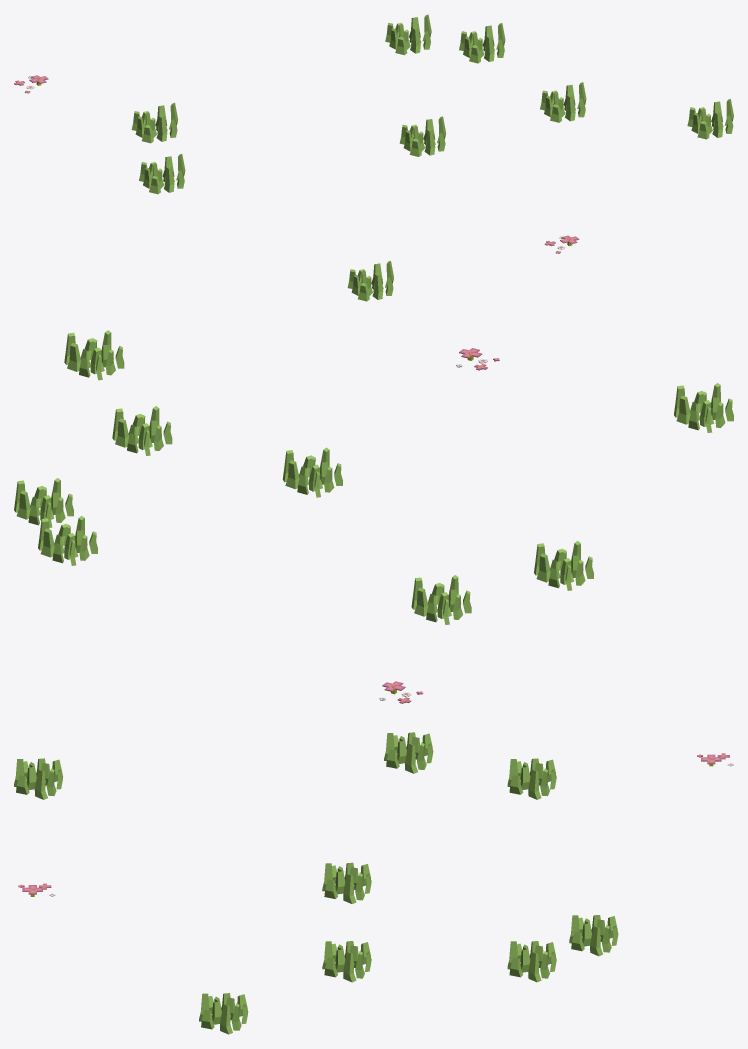
File: flower_grass 10.fbx
The picture shows the model from 3 angles, top to bottom: view 1: azimuth 30°, elevation 25°; view 2: azimuth 150°, elevation 25°; view 3: azimuth 270°, elevation 25°; orthographic projection. The views are drawn at different scales.
Parts seen in each view (by area): view 1: Grass_1; view 2: Grass_1; view 3: Grass_1.
Boxes of the visible parts, x1,y1,x2,y2 form: Grass_1: [14, 14, 733, 301]; Grass_1: [14, 330, 733, 703]; Grass_1: [14, 732, 733, 1034].
Size of the model in its own units: 6546 by 294 by 7003.
Materials: 2 (2 with a texture image).
